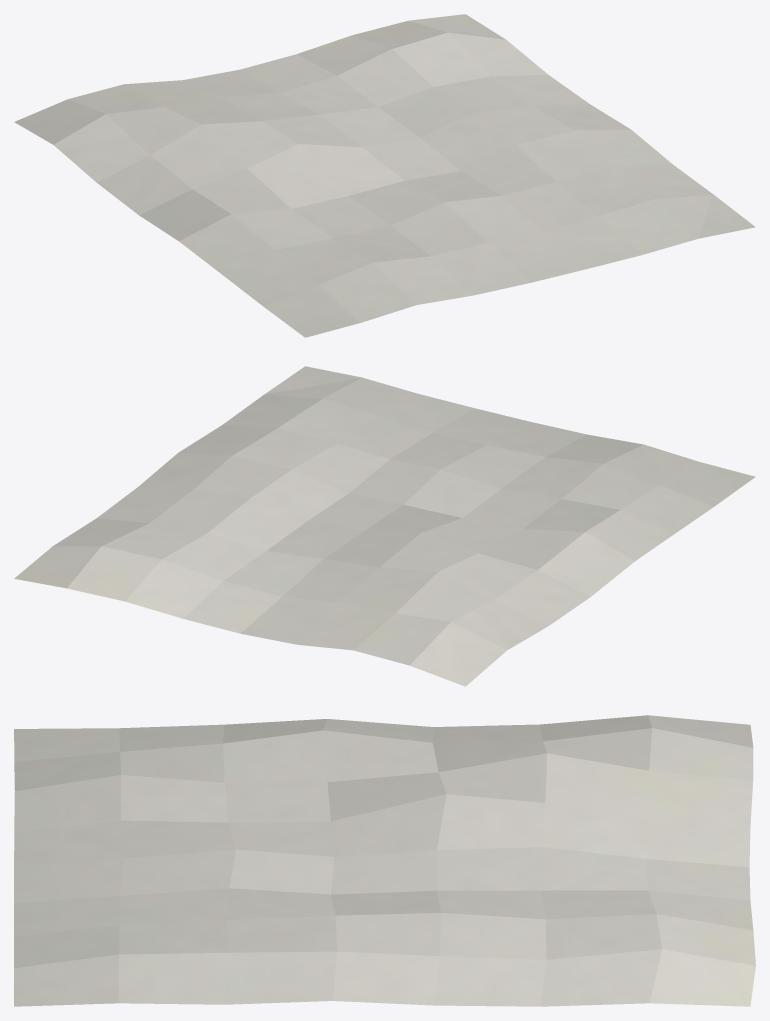
The model's file is snow.fbx.
The picture shows the model from 3 angles, top to bottom: view 1: azimuth 30°, elevation 25°; view 2: azimuth 150°, elevation 25°; view 3: azimuth 270°, elevation 25°; orthographic projection. The views are drawn at different scales.
Visible parts, largest first — view 1: Cube; view 2: Cube; view 3: Cube.
Boxes of the visible parts, left/top/right/bottom form: Cube: left=14, top=14, right=755, bottom=337; Cube: left=14, top=366, right=755, bottom=686; Cube: left=14, top=715, right=755, bottom=1006.
Size of the model in its own units: 63735 by 4640 by 71092.
